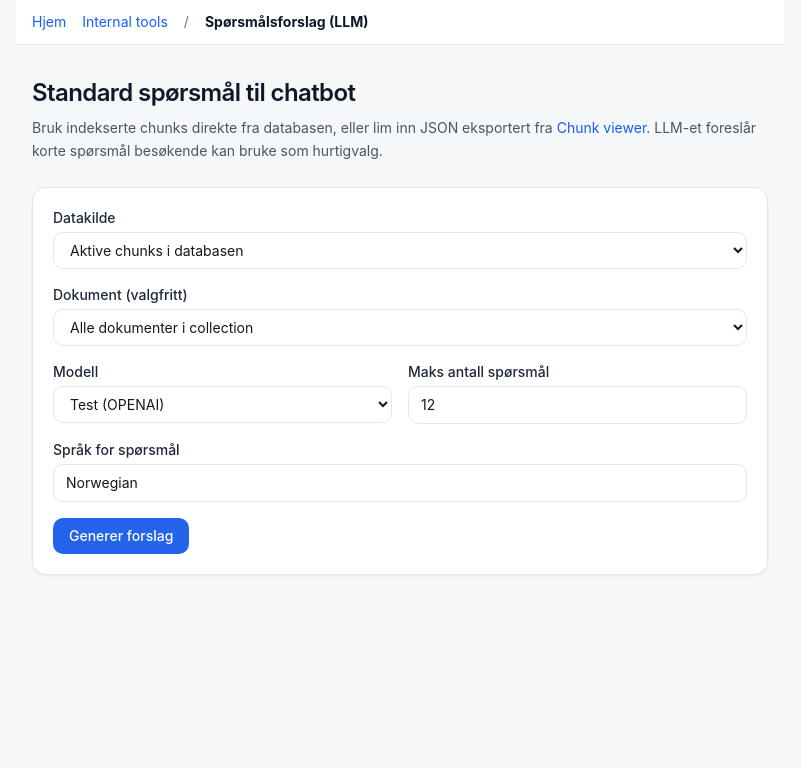
Test: Admin CRUD views (integration-style) › AdminQuestionSuggestionsView blocks uploaded-json mode without payload
Step 1. Select "Eksportert JSON (lim inn / fil)" in the dropdown with test id "suggestion-source" → (400, 250), box [53, 232, 747, 268]
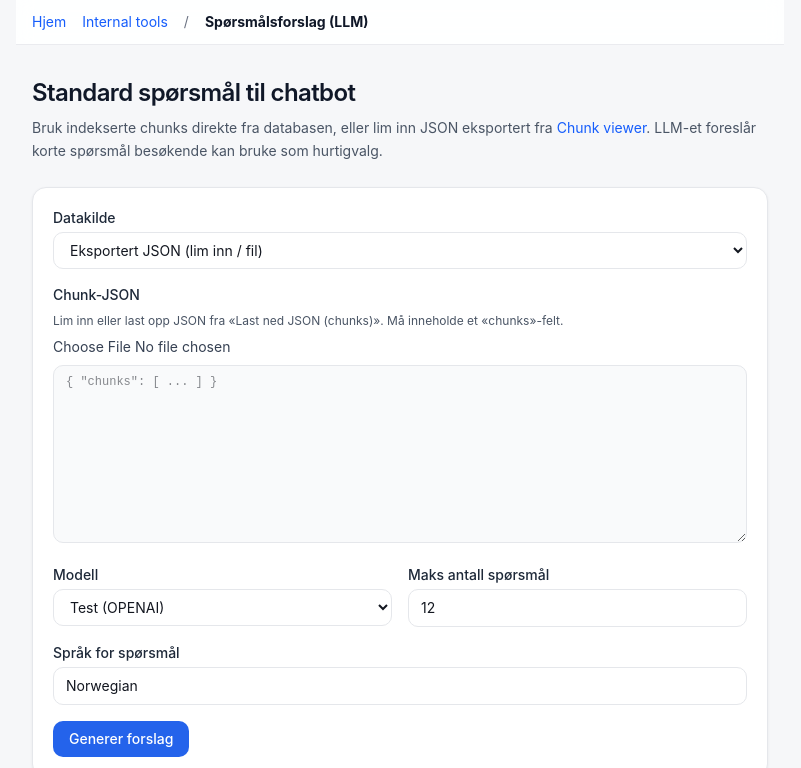
Step 2. Click the button "Generer forslag" → (121, 738), box [53, 720, 189, 756]
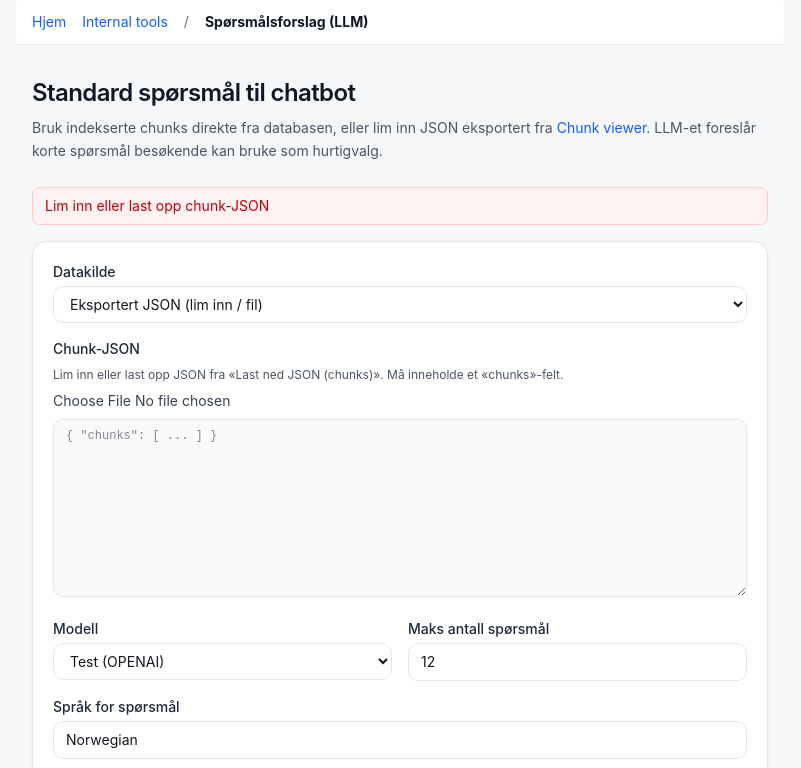
Check: the text "Lim inn eller last opp chunk-JSON" is shown, box [32, 186, 768, 224]
